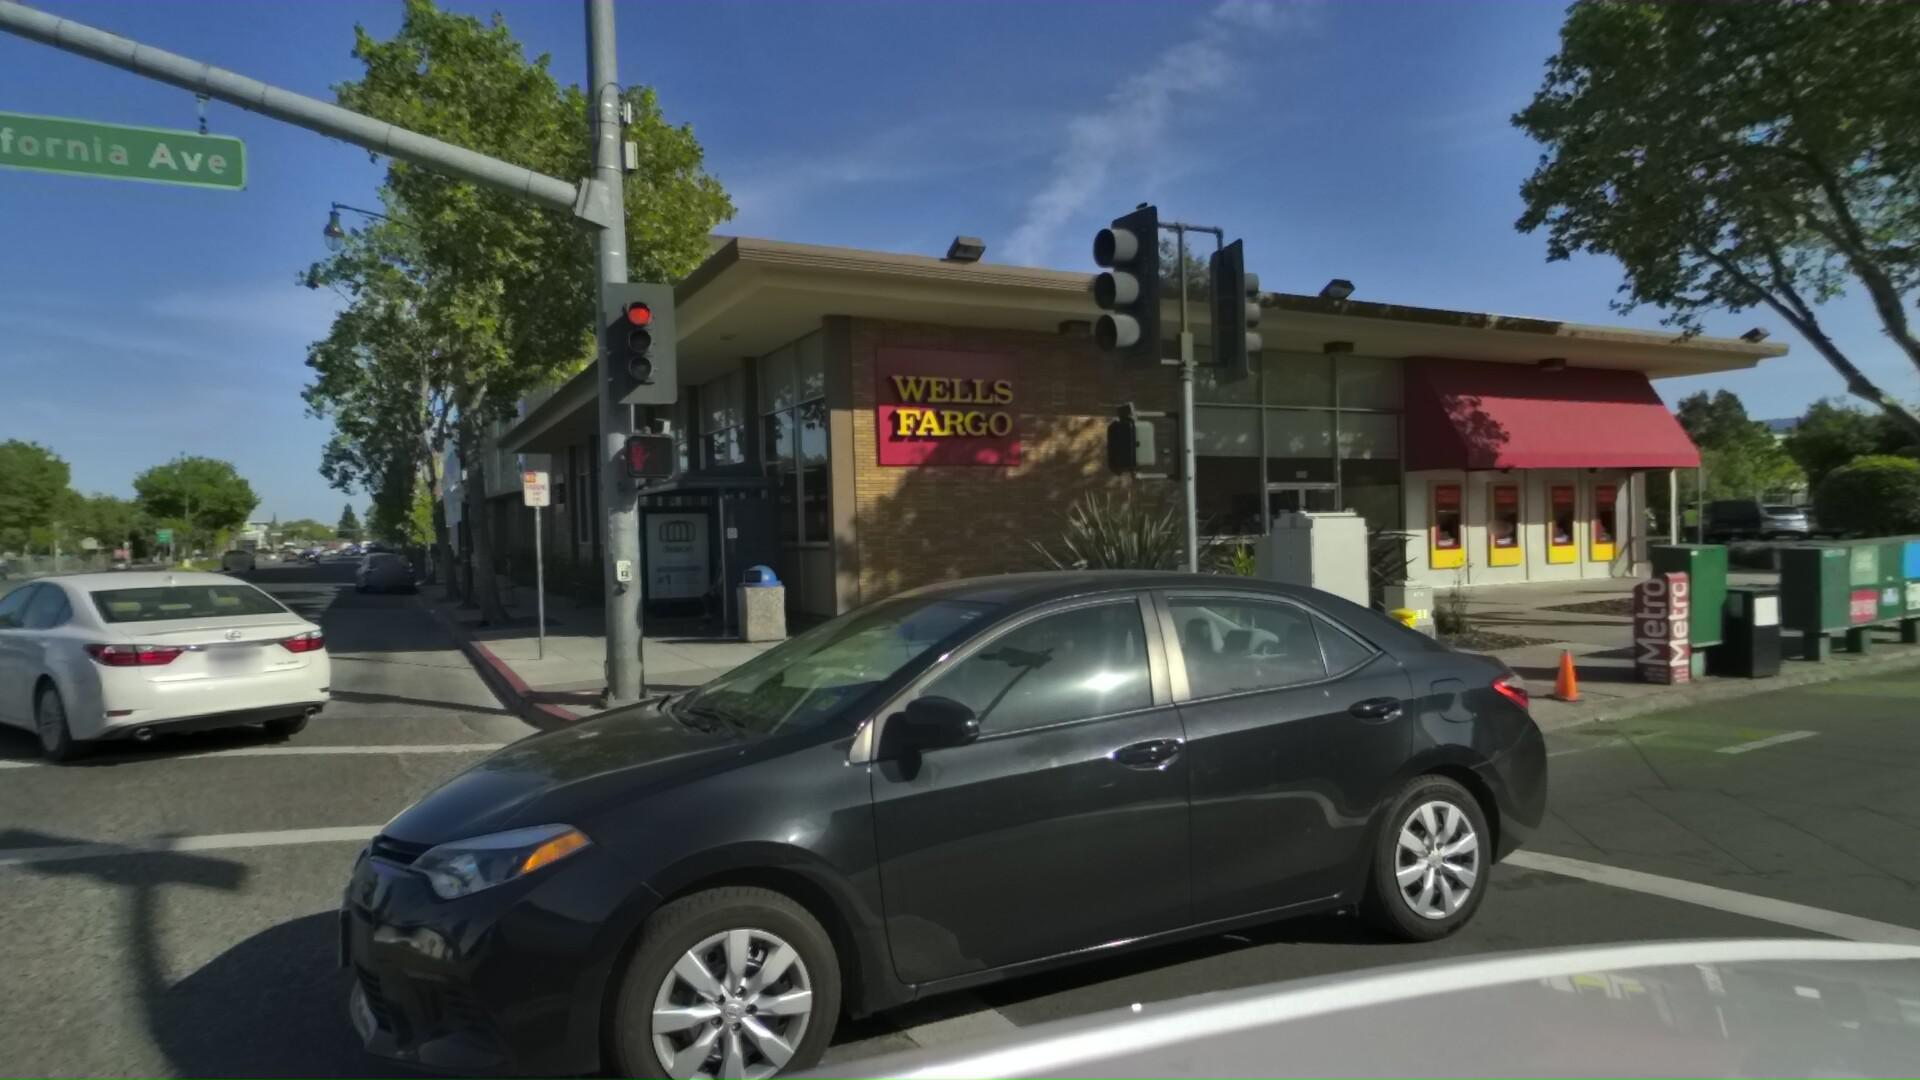car: (140, 525, 1585, 1080), (0, 559, 376, 783), (1847, 495, 1920, 550), (356, 547, 433, 595), (363, 535, 410, 578)
